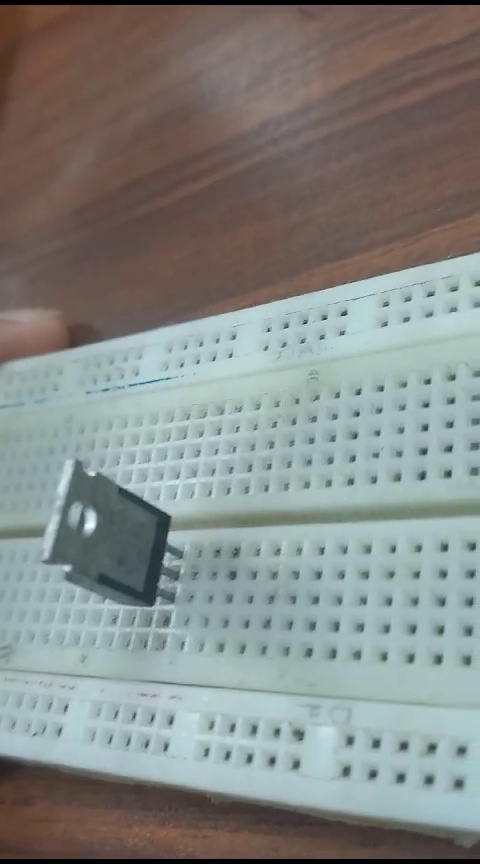voltage regulator: (40, 448, 178, 621)
